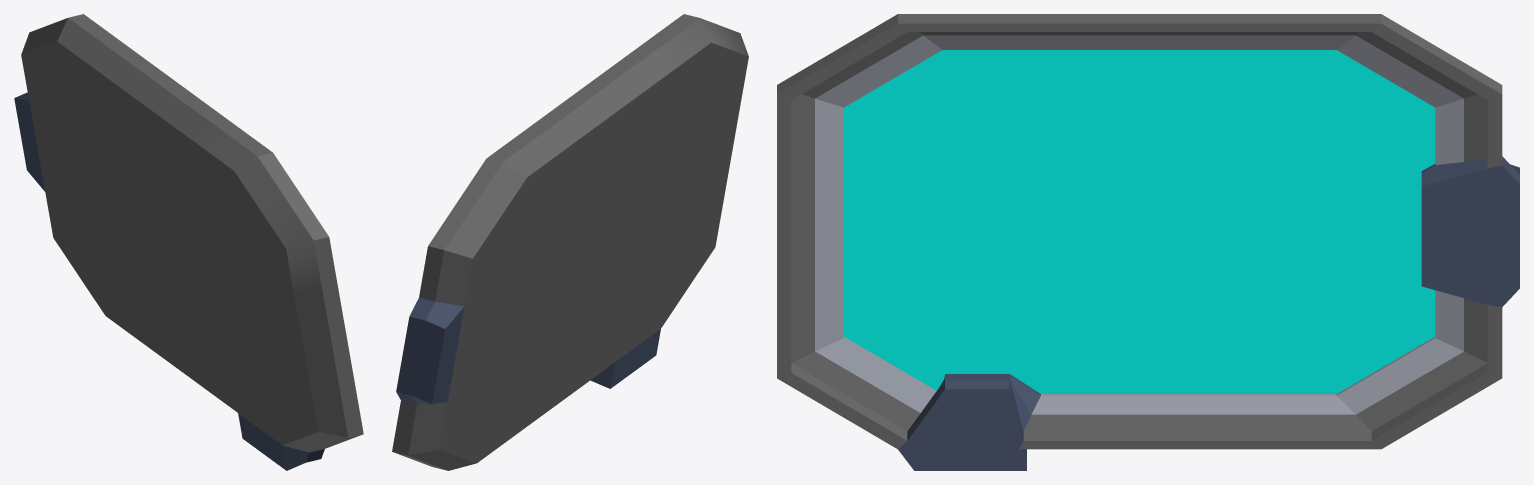
The model's file is screen.fbx.
3 views of the same model, side by side, from view 1: azimuth 30°, elevation 25°; view 2: azimuth 150°, elevation 25°; view 3: azimuth 270°, elevation 25° (orthographic). The views are drawn at different scales.
Visible parts, largest first — view 1: pCube1; view 2: pCube1; view 3: pCube1.
Part boxes in pixels (left/top/right/bottom): pCube1: left=14, top=14, right=363, bottom=470; pCube1: left=392, top=14, right=748, bottom=470; pCube1: left=777, top=14, right=1519, bottom=470.
Size of the model in its own units: 2.03 by 7.26 by 11.7.
